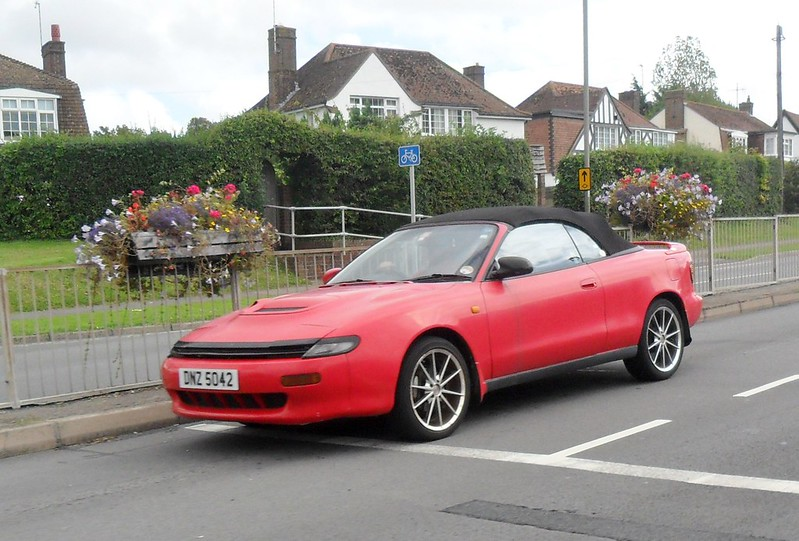car: (155, 203, 709, 447)
